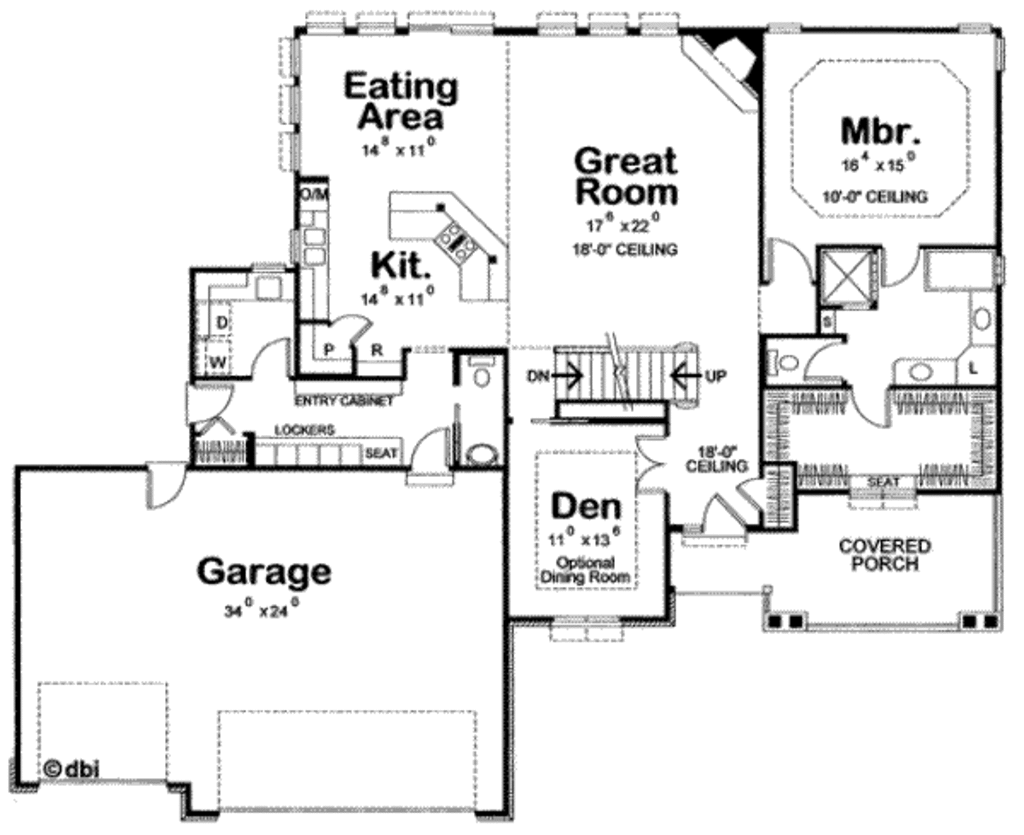door: (402, 422, 463, 487), (630, 428, 682, 502), (242, 327, 296, 383), (761, 239, 820, 290), (693, 495, 758, 540), (141, 459, 193, 513), (185, 384, 242, 430), (802, 336, 849, 384), (851, 385, 898, 431), (730, 470, 773, 517), (879, 249, 923, 290), (331, 308, 374, 346)
kitchen_bar: (383, 179, 513, 307)
large_sink: (764, 332, 804, 392), (464, 355, 504, 393)
small_sink: (463, 426, 498, 469)
stairs: (528, 339, 721, 422)
twin_sink: (292, 216, 333, 273)
window: (632, 7, 689, 42), (531, 6, 578, 41), (352, 4, 398, 39), (269, 33, 304, 78), (301, 8, 351, 39), (588, 9, 632, 42), (274, 79, 301, 127), (277, 122, 298, 174)
